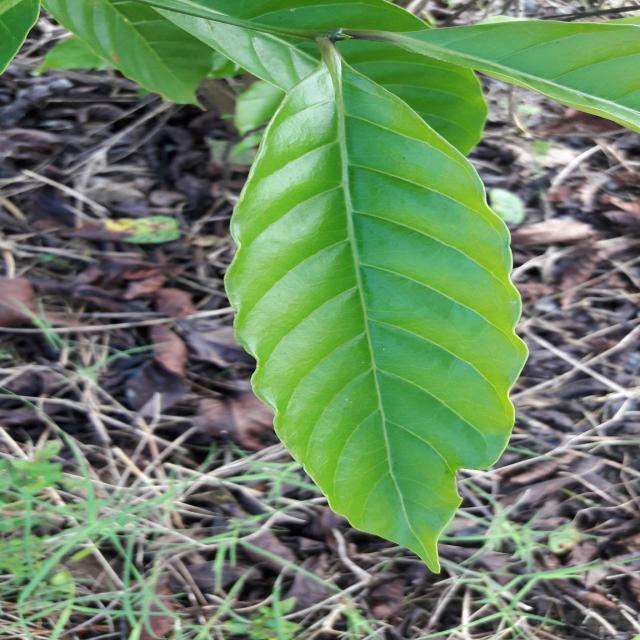Sanas: (223, 38, 527, 578)
